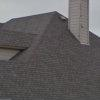Chimney: (64, 3, 94, 45)
